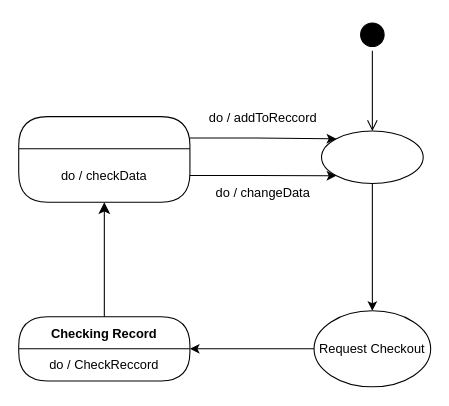
Image size: 449x406. Some labels were removed from this diagram. The box of each missing label's shape, as (x1, y1, x2, y2) in pixels:
Check Availability: (18, 116, 190, 202)
Waiting: (320, 130, 423, 184)
